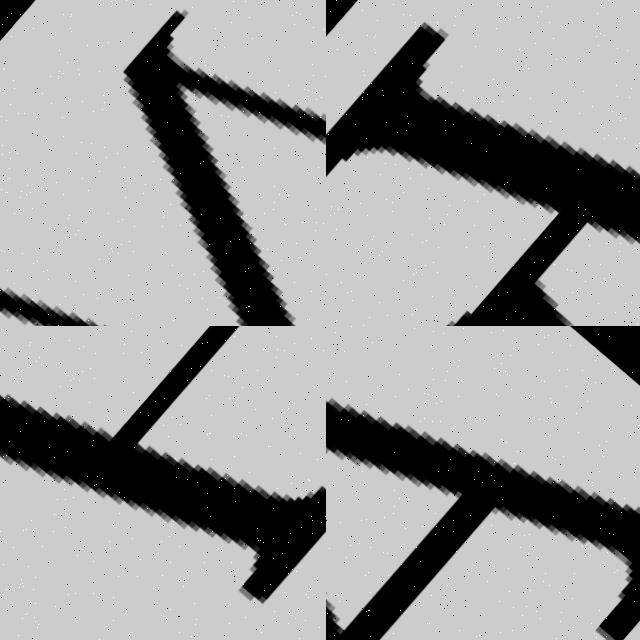A: (326, 326, 640, 640)
H: (0, 326, 326, 607)
N: (0, 0, 326, 326)
R: (326, 0, 640, 326)
